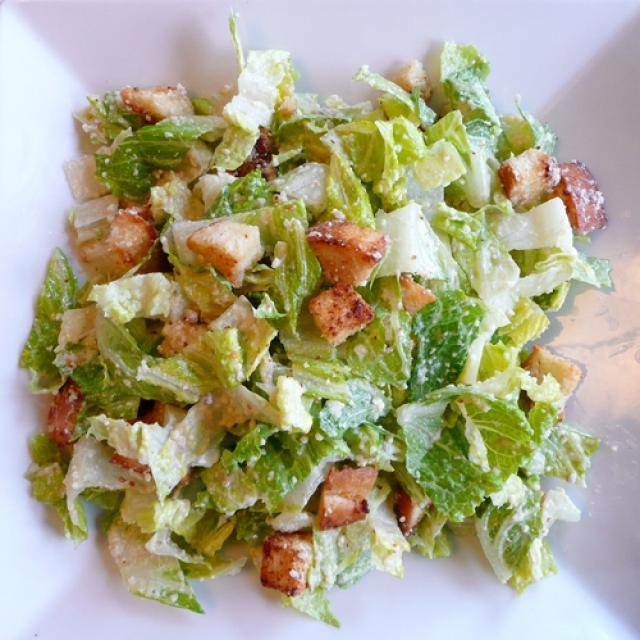蔬菜料理: (23, 23, 602, 616)
